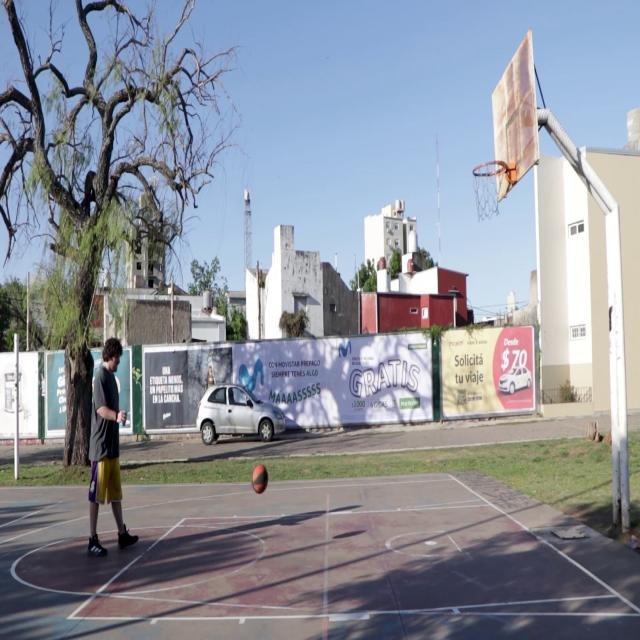ball: (250, 464, 268, 494)
